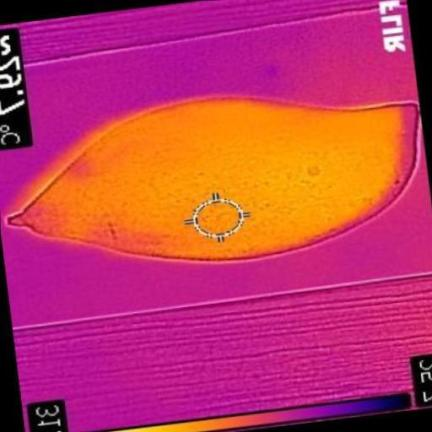mango: (8, 97, 419, 259)
